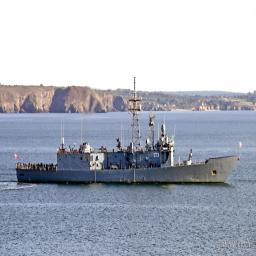Fragata: (13, 76, 243, 191)
